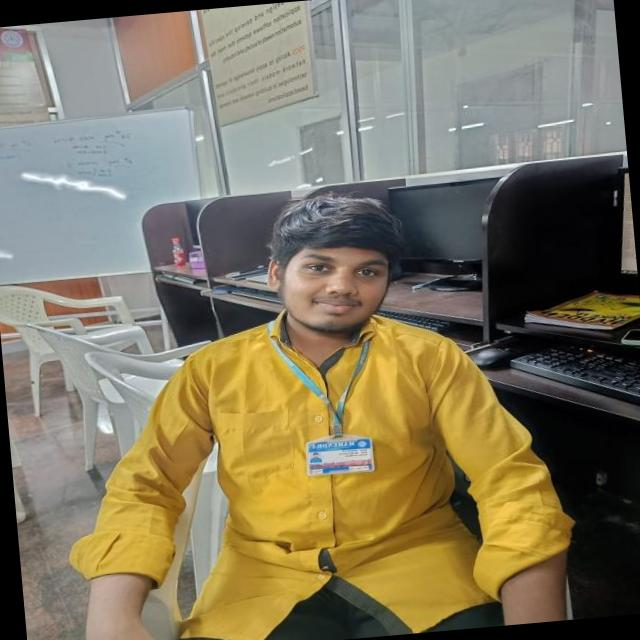id_card: (281, 322, 378, 478)
